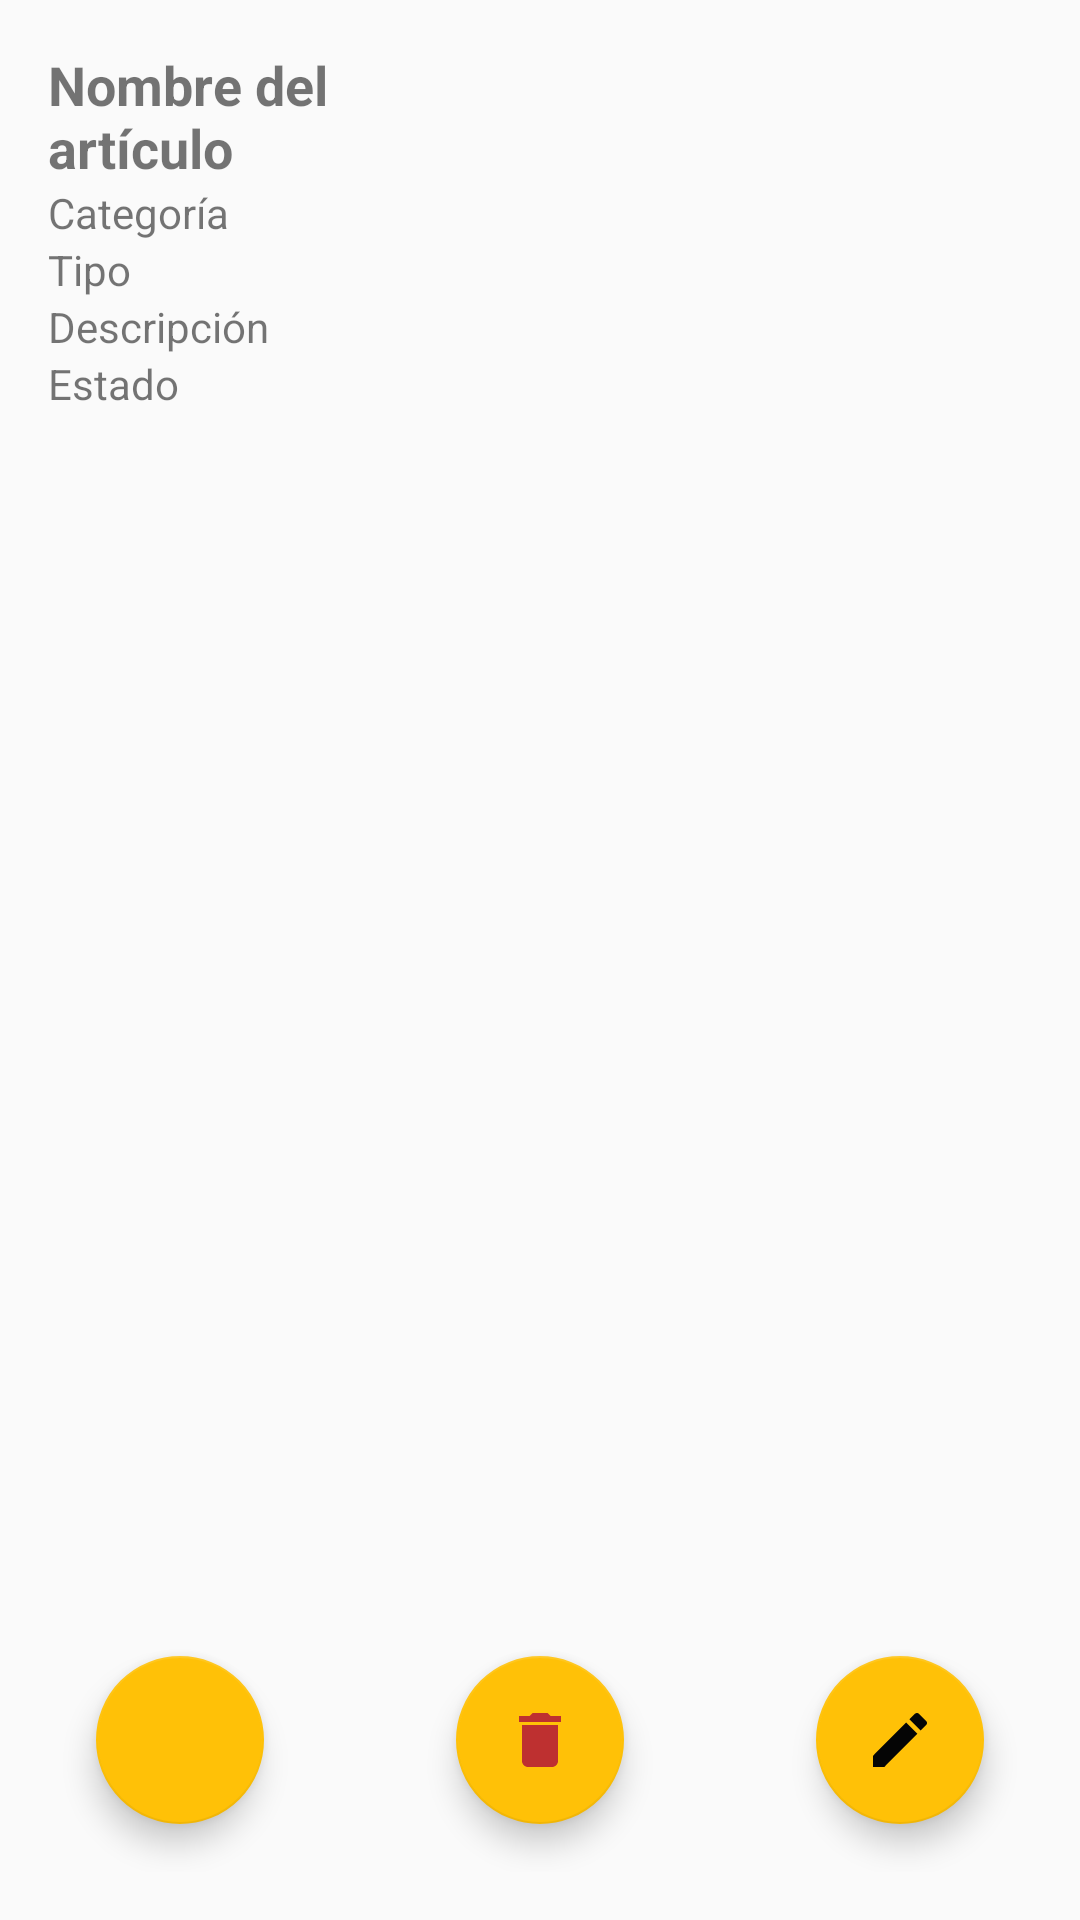

Icon click points for this 1080×1920 phone screenshot, format [x,y]:
delete: [540,1740]
edit: [900,1740]
